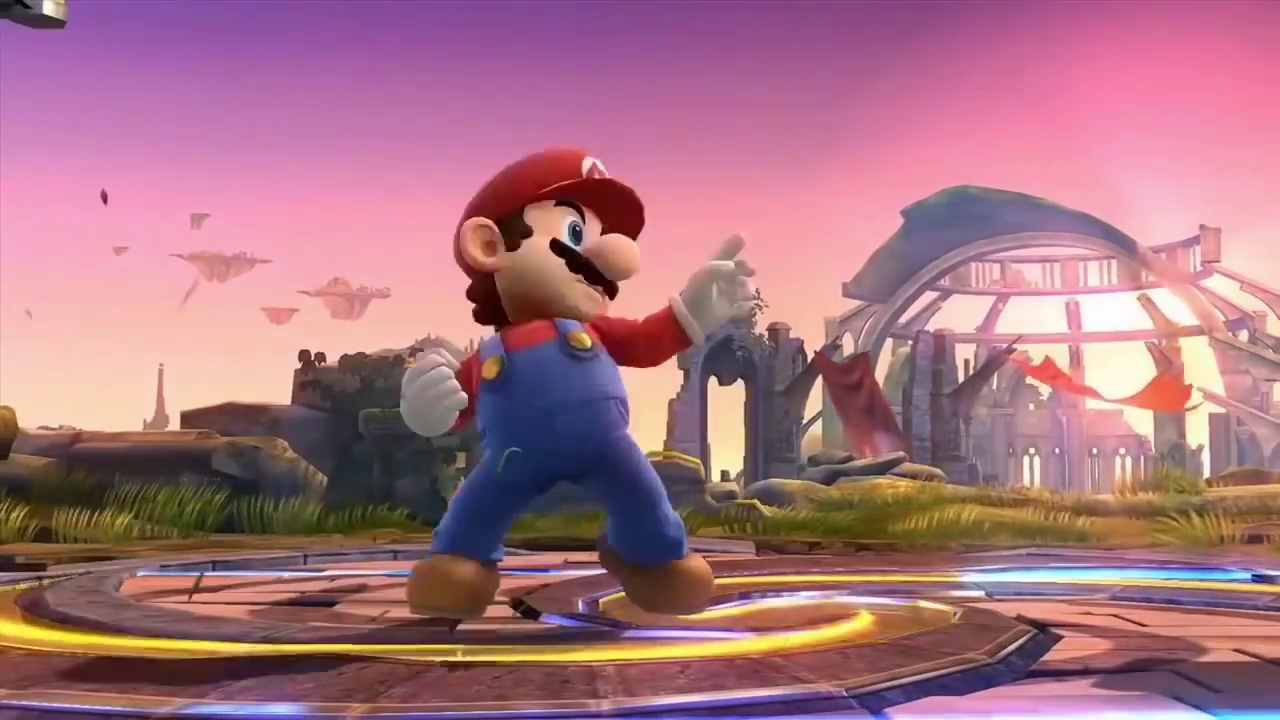Mario: (399, 143, 754, 614)
